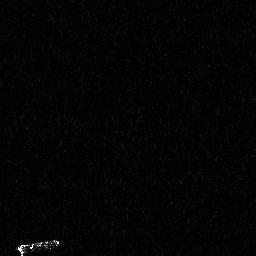ship: (16, 239, 62, 256)
